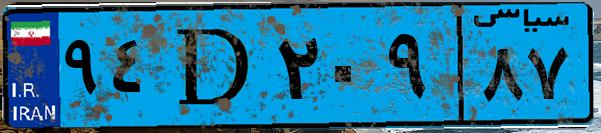0: (330, 28, 385, 110)
2: (270, 28, 330, 110)
4: (110, 28, 158, 98)
7: (525, 38, 570, 115)
8: (475, 38, 525, 113)
9: (385, 28, 445, 110), (57, 26, 110, 100)
D: (158, 12, 270, 120)
